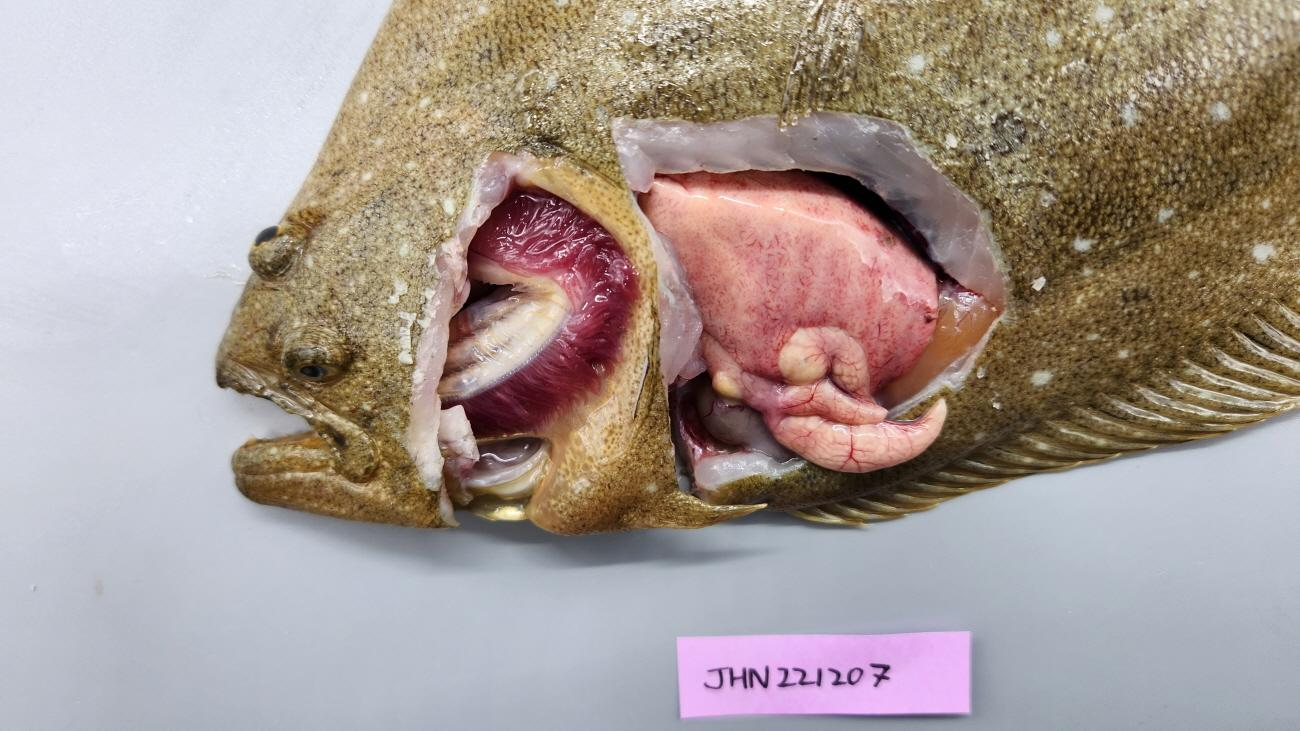POGIN: (441, 192, 642, 439)
POLIN: (636, 168, 939, 395)
